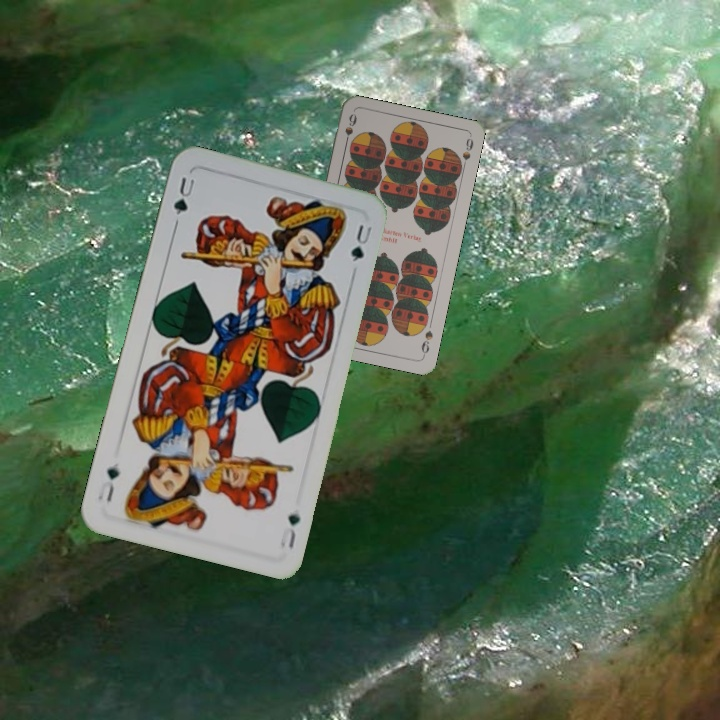GU: (169, 173, 198, 218), (276, 509, 303, 552)
S9: (341, 110, 359, 150), (417, 326, 435, 359)
